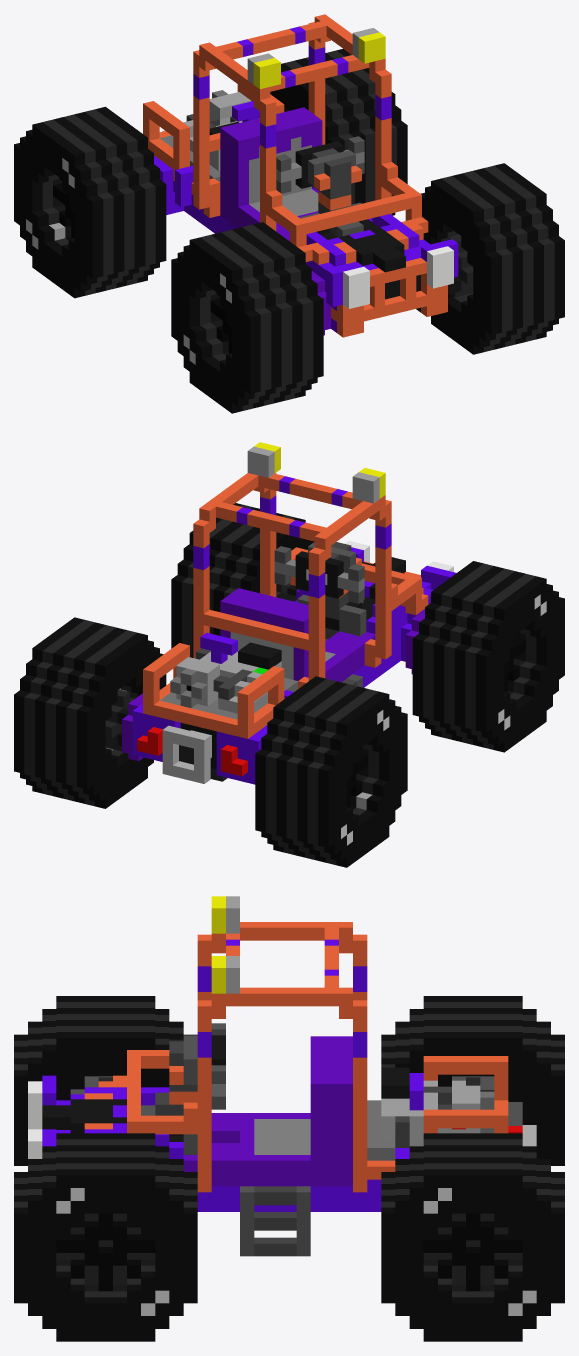
File: Orange_Purple_Kart.obj
3 renders of one model, top to bottom at view 1: azimuth 30°, elevation 25°; view 2: azimuth 150°, elevation 25°; view 3: azimuth 270°, elevation 25°, orthographic. The views are drawn at different scales.
Bounding box in the file's own units: 3 × 2.5 × 3.9.
Materials: 1 (1 with a texture image).
